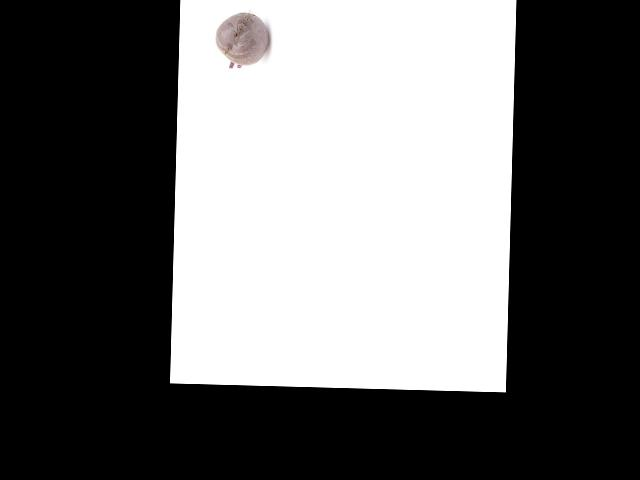beet: (214, 11, 270, 68)
